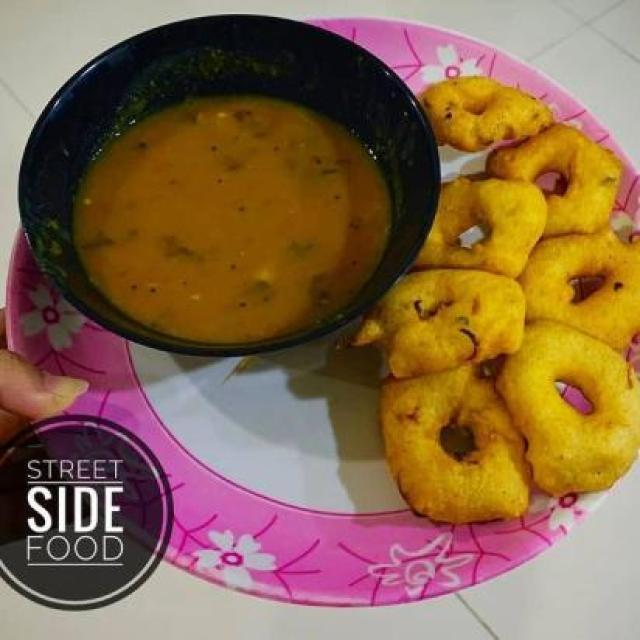sambhar: (39, 63, 384, 363)
vada: (362, 348, 534, 546), (484, 311, 640, 510), (505, 214, 640, 376), (342, 267, 543, 370), (482, 121, 628, 250), (409, 162, 534, 288), (411, 68, 560, 154)
